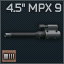MPX 9x19 4.5 inch barrel: (0, 0, 64, 64)
